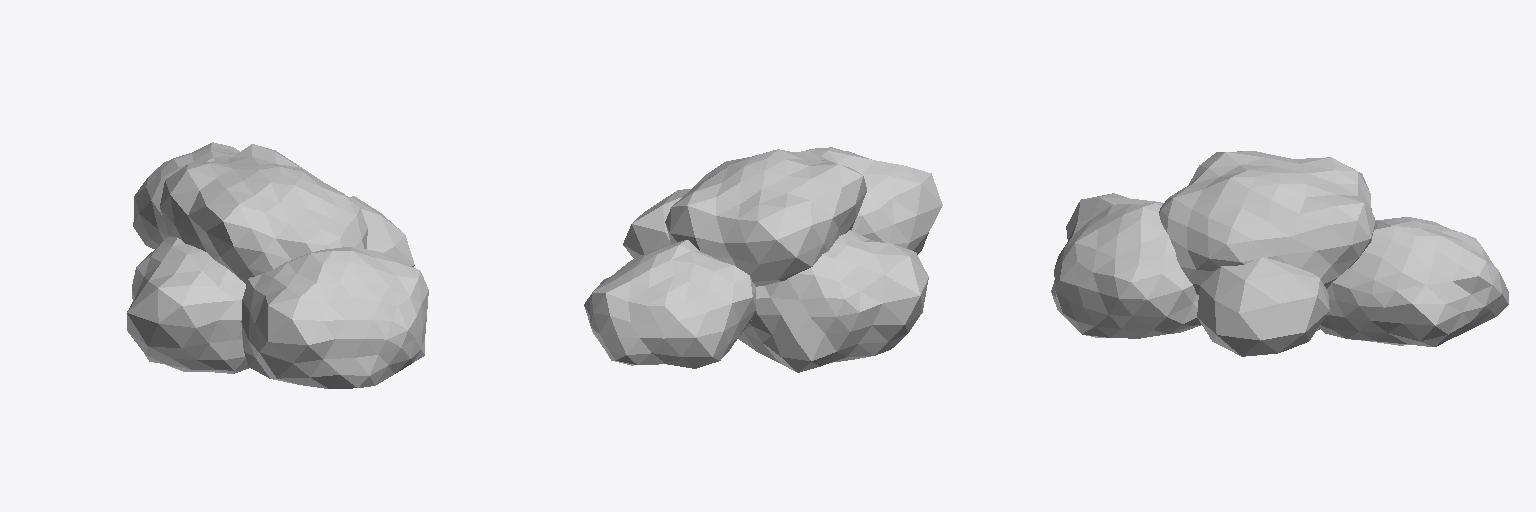
File: cloud_2.obj
3 views of the same model, side by side, from view 1: azimuth 30°, elevation 25°; view 2: azimuth 150°, elevation 25°; view 3: azimuth 270°, elevation 25° (orthographic).
Parts seen in each view (by area): view 1: cloud_2; view 2: cloud_2; view 3: cloud_2.
Boxes of the visible parts, box(x1,y1,x2,y2) form: cloud_2: box(127, 142, 428, 388); cloud_2: box(584, 147, 942, 372); cloud_2: box(1051, 151, 1508, 356).
Size of the model in its own units: 7.59 by 4.41 by 10.69.